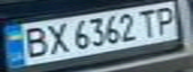2: (118, 9, 142, 43)
3: (87, 15, 109, 47)
6: (103, 11, 124, 45), (69, 17, 90, 51)
B: (18, 24, 51, 60)
P: (151, 3, 181, 35)
T: (136, 7, 163, 38)
X: (42, 20, 72, 55)
